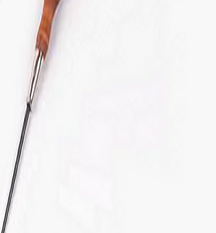Screwdriver: (3, 1, 64, 233)
